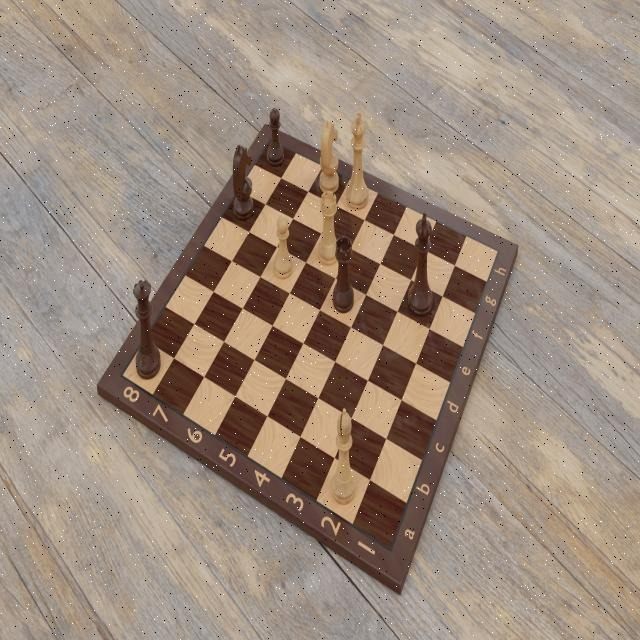black-king: (405, 208, 435, 320)
black-knight: (231, 144, 257, 220)
black-pawn: (265, 106, 287, 170)
black-queen: (132, 277, 164, 381)
black-rook: (331, 235, 356, 313)
white-bishop: (329, 405, 356, 510)
white-king: (345, 109, 371, 211)
white-knight: (319, 119, 341, 197)
white-pawn: (272, 213, 295, 281)
white-rook: (317, 189, 342, 267)
